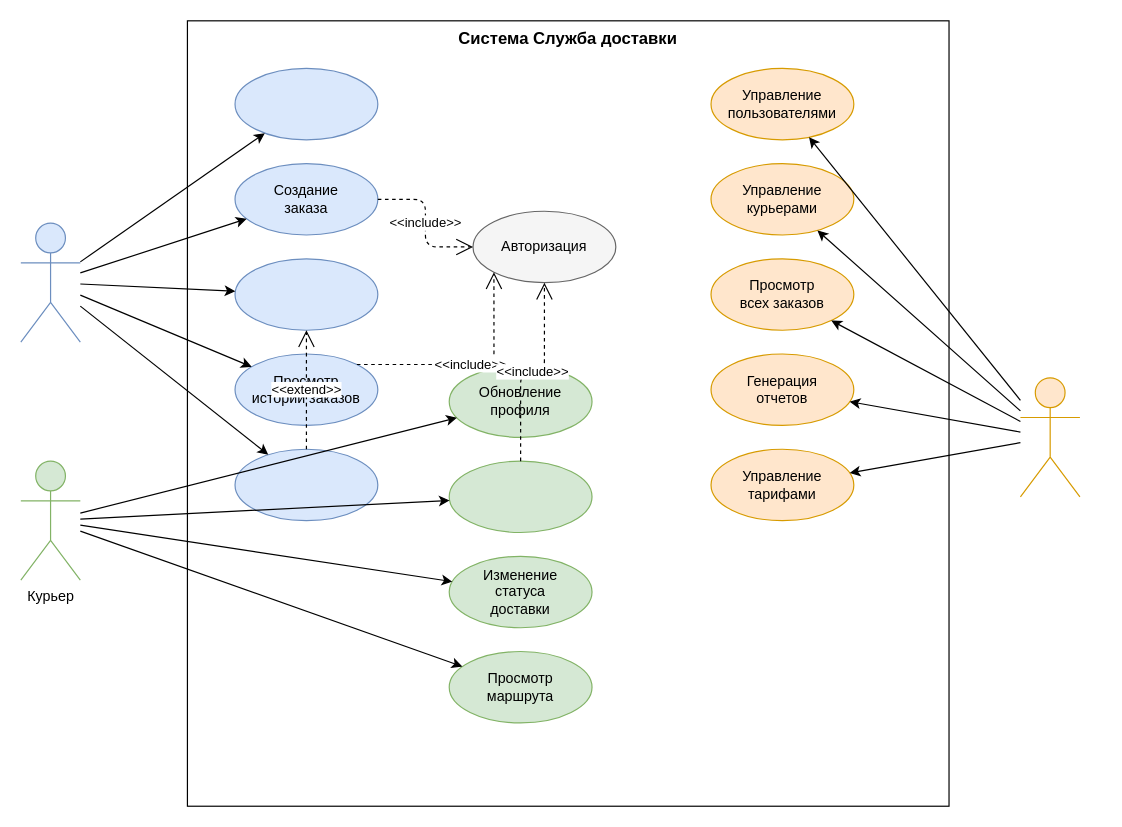
Some shapes in this 1122 by 827 pixel diagram are drawn without their labels. The centre of each missing label's shape, as x and y in pixels:
"Администратор" goes at (1049,437).
"Клиент" goes at (50,282).
"Отмена заказа" goes at (306,484).
"Отслеживание заказа" goes at (306,294).
"Просмотр назначенных заказов" goes at (520,496).
"Регистрация в системе" goes at (306,103).
